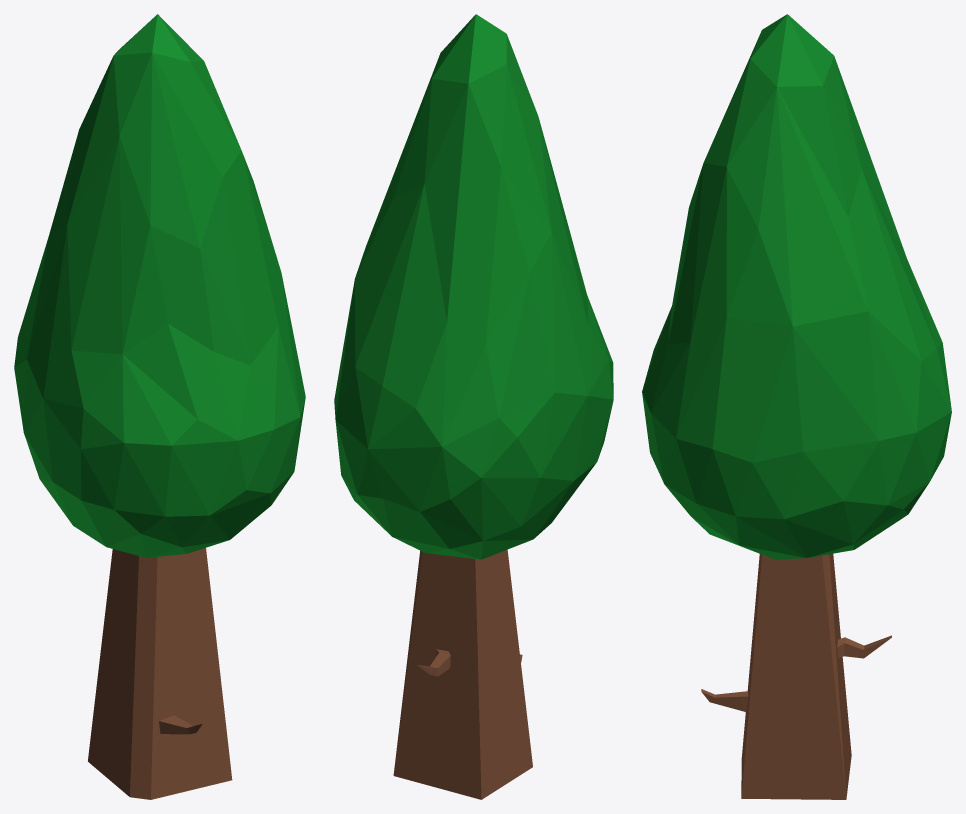
The model's file is Thintree2.glb.
3 renders of one model, left to right at view 1: azimuth 30°, elevation 25°; view 2: azimuth 150°, elevation 25°; view 3: azimuth 270°, elevation 25°, orthographic.
Visible parts, largest first — view 1: Thin tree 2 (1); view 2: Thin tree 2 (1); view 3: Thin tree 2 (1).
Part boxes in pixels (<box>): Thin tree 2 (1): <box>14,14,305,799</box>; Thin tree 2 (1): <box>334,14,613,799</box>; Thin tree 2 (1): <box>642,14,951,799</box>.
Bounding box in the file's own units: 21.91 × 68.68 × 25.39.
